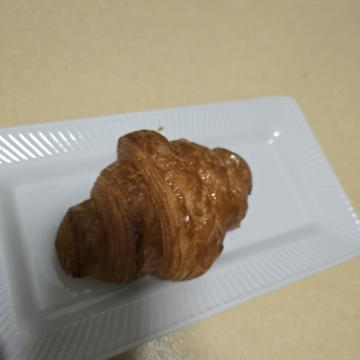croissant: (109, 96, 298, 314)
